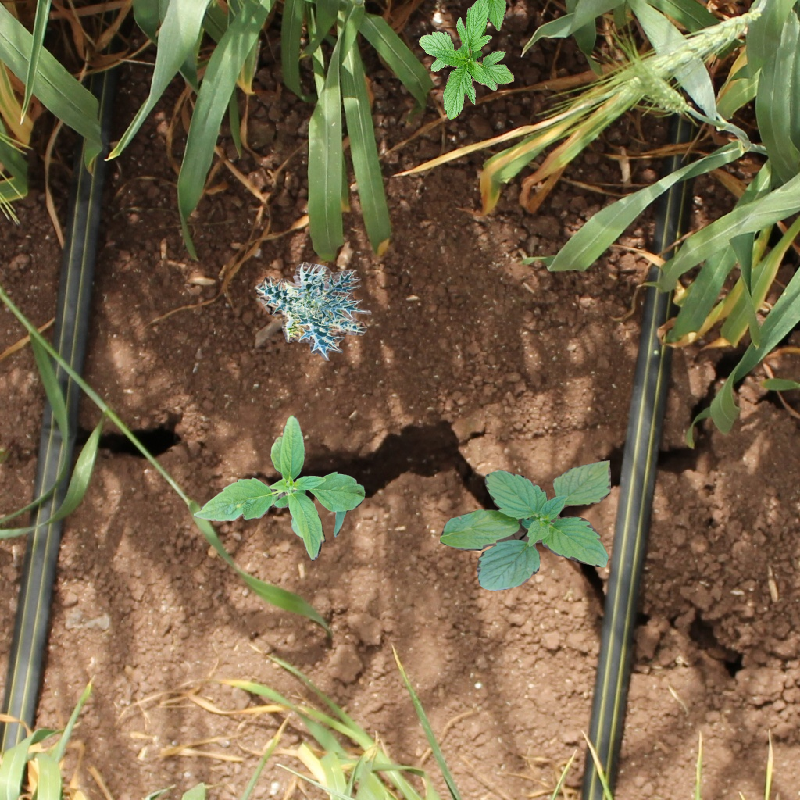spikelet: (626, 9, 762, 119), (257, 276, 361, 335), (619, 56, 693, 116)
weed: (194, 415, 366, 561), (440, 460, 611, 591), (254, 262, 372, 361), (419, 1, 515, 120)
